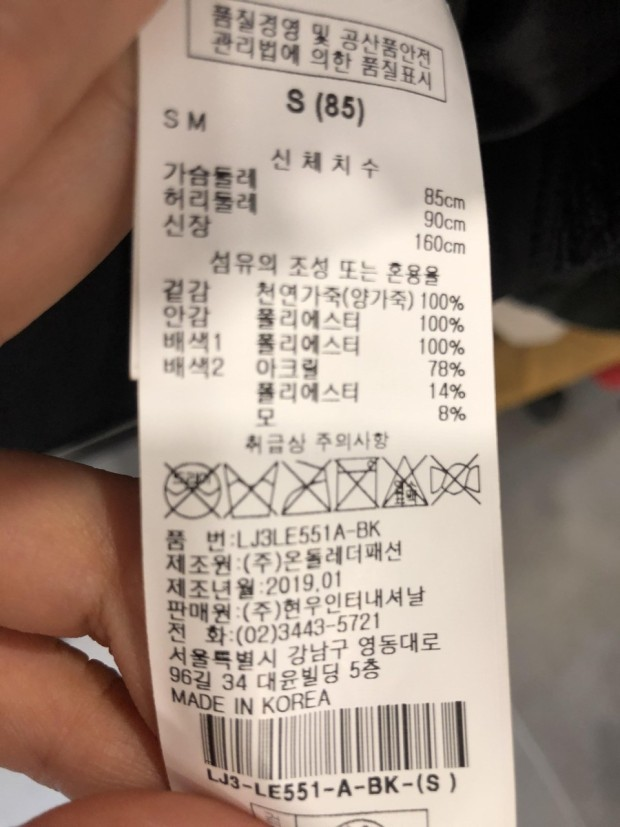KR_no_chlorine_bleach: (379, 453, 429, 512)
KR_no_dry_clean: (159, 459, 224, 523)
KR_no_iron: (279, 458, 333, 516)
KR_no_wash: (221, 457, 280, 520)
KR_no_wring: (428, 451, 485, 507)
